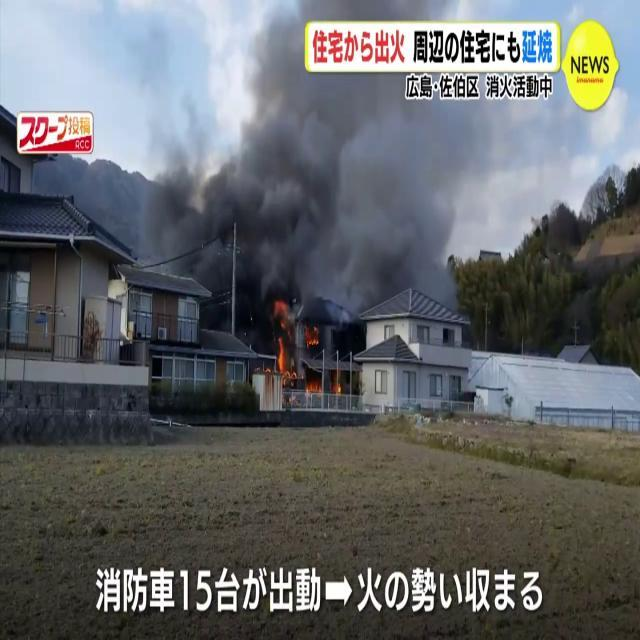Fire: (272, 298, 292, 383)
Smoke: (146, 8, 480, 336)
